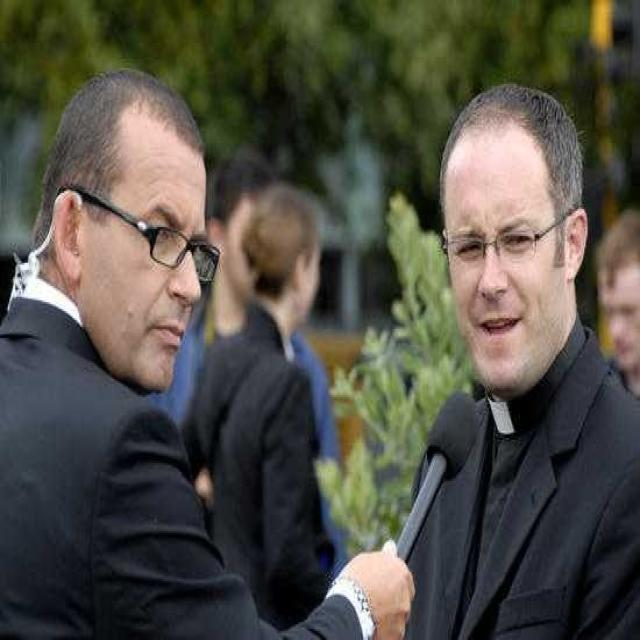microphone: (376, 387, 484, 563)
